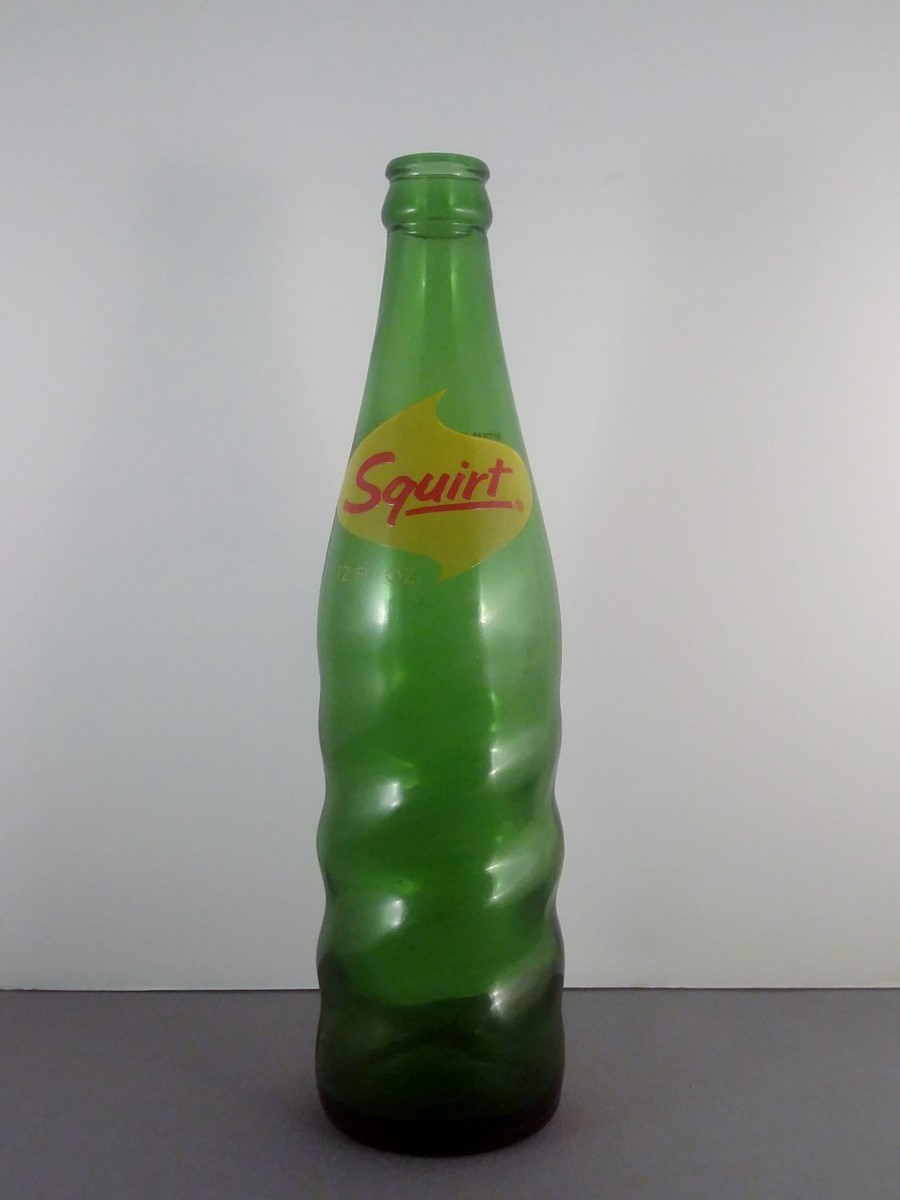Rec_Glass: (232, 126, 605, 1154)
